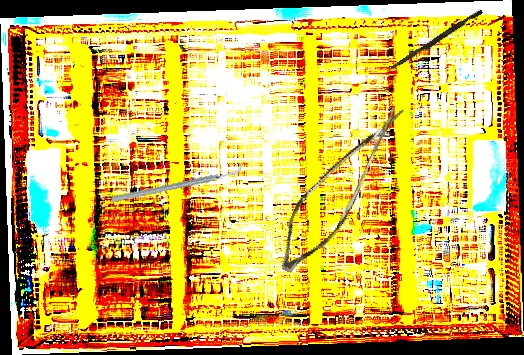Chopper: (111, 139, 244, 227)
Micro Scissor: (270, 83, 405, 289)
Pusher: (385, 7, 484, 76)
